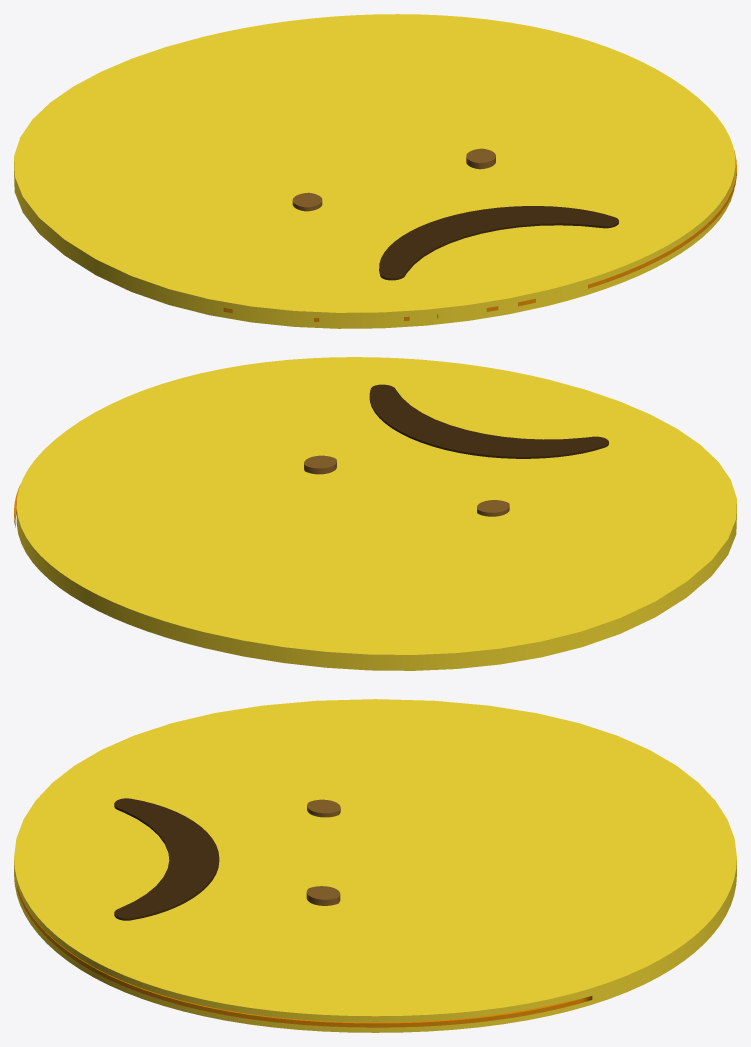
The model's file is emoji_u1f620.glb.
3 renders of one model, top to bottom at view 1: azimuth 30°, elevation 25°; view 2: azimuth 150°, elevation 25°; view 3: azimuth 270°, elevation 25°, orthographic. The views are drawn at different scales.
Parts seen in each view (by area): view 1: emoji_u1f620; view 2: emoji_u1f620; view 3: emoji_u1f620.
Boxes of the visible parts, x1,y1,x2,y2 form: emoji_u1f620: (14,14,736,328); emoji_u1f620: (14,357,736,670); emoji_u1f620: (14,699,736,1032).
Bounding box in the file's own units: 0.0327 × 0.0014 × 0.0315.
